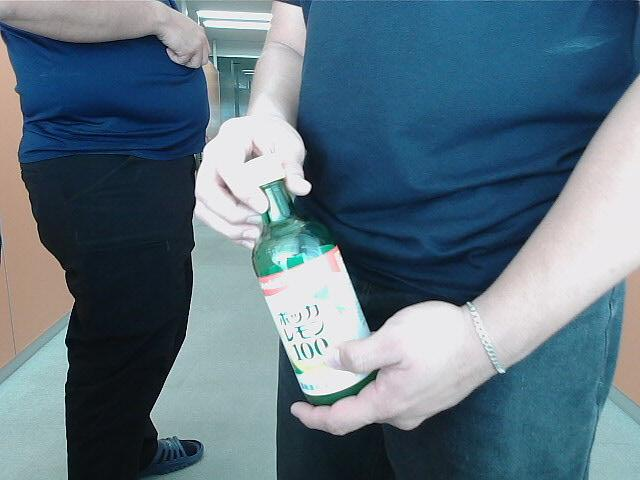Lemon_sapporo: (238, 156, 384, 409)
